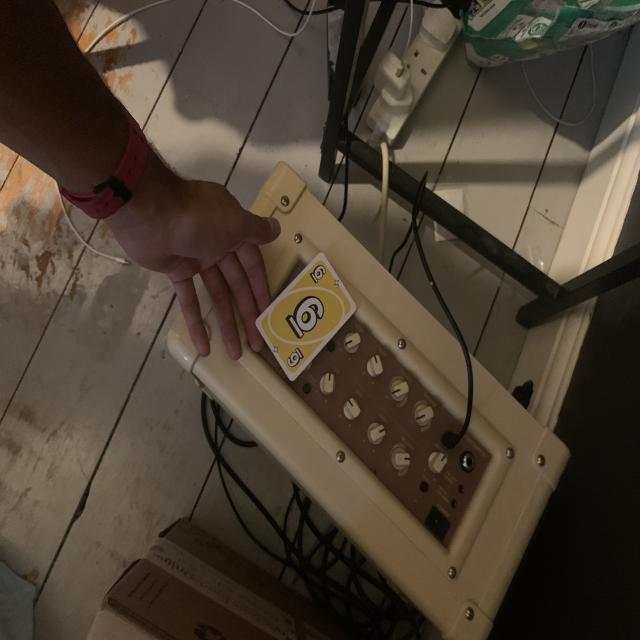lyellow-6: (307, 262, 329, 285)
